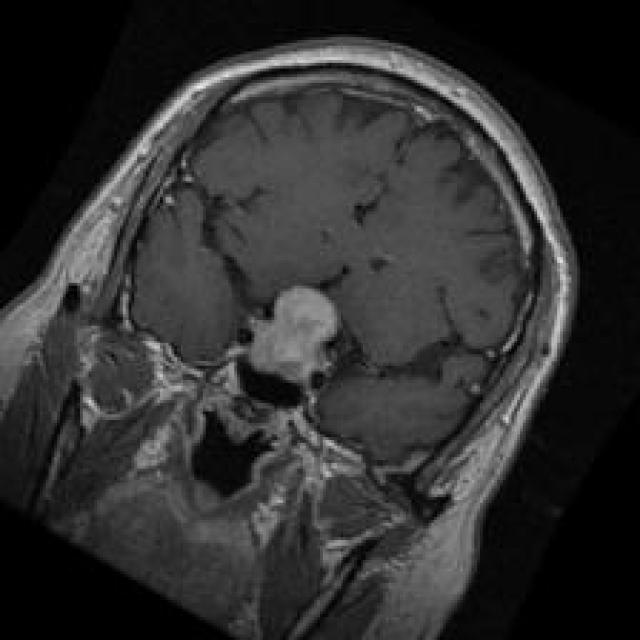pituitary_tumor: (225, 274, 353, 392)
